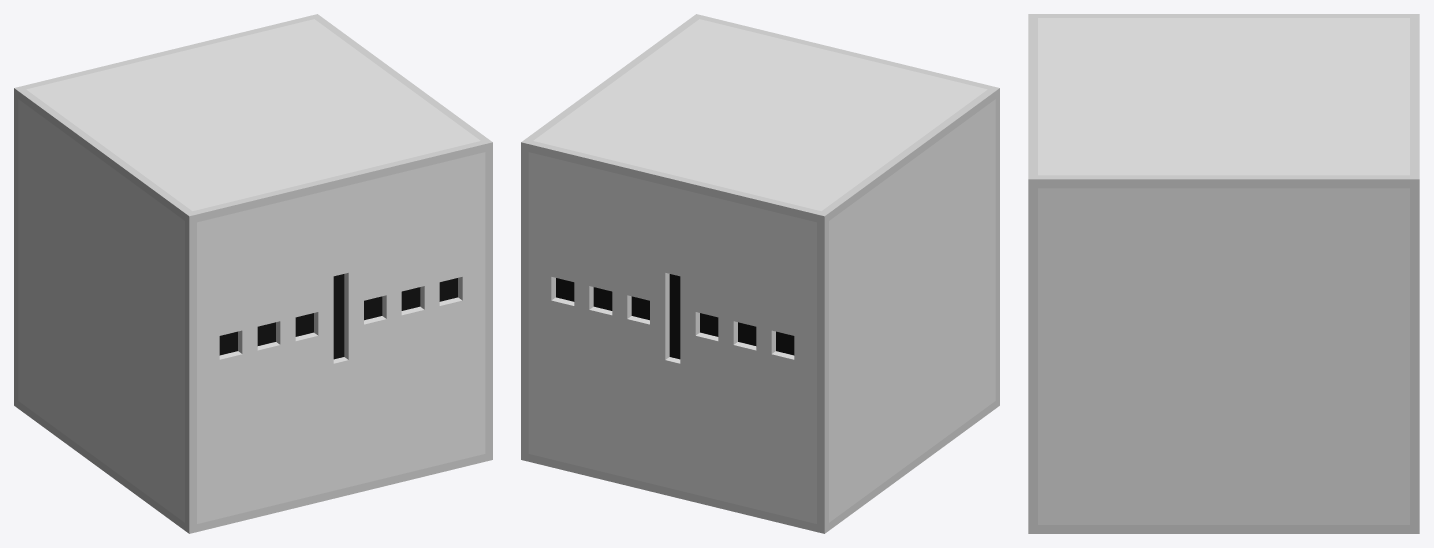
File: MuroMid.FBX
3 views of the same model, side by side, from view 1: azimuth 30°, elevation 25°; view 2: azimuth 150°, elevation 25°; view 3: azimuth 270°, elevation 25° (orthographic). The views are drawn at different scales.
Visible parts, largest first — view 1: MuroMid; view 2: MuroMid; view 3: MuroMid.
Part boxes in pixels (x1=…): MuroMid: x1=14, y1=14, x2=492, y2=533; MuroMid: x1=521, y1=14, x2=999, y2=533; MuroMid: x1=1028, y1=14, x2=1419, y2=533.
Bounding box in the file's own units: 1 × 1 × 1.
Materials: 1 (1 with a texture image).
